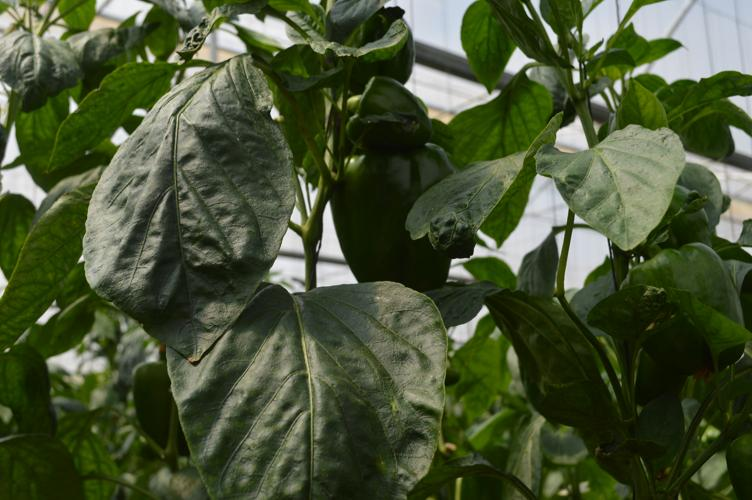BellPepper: (327, 147, 457, 290), (623, 245, 744, 369), (344, 79, 426, 143)
